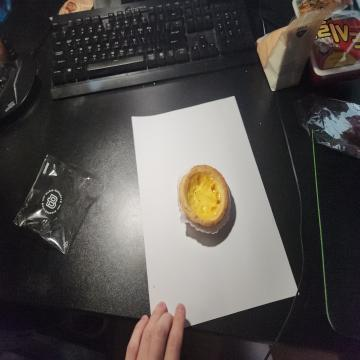EggTart: (178, 162, 231, 229)
